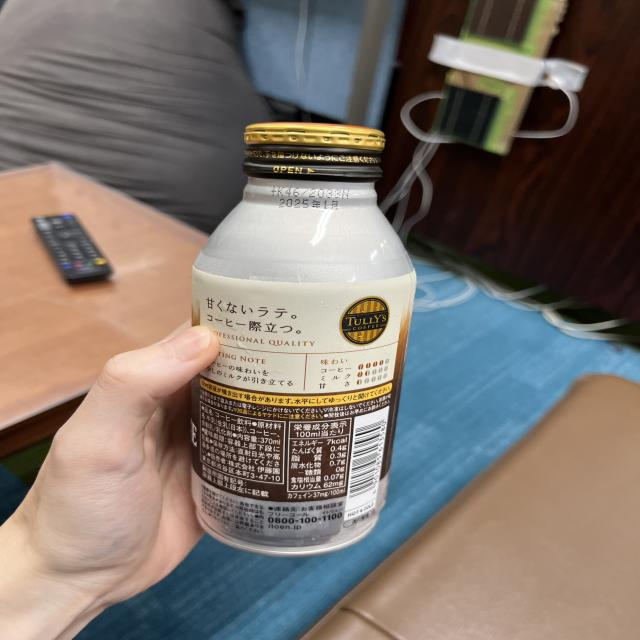coffee-latte: (190, 120, 418, 558)
